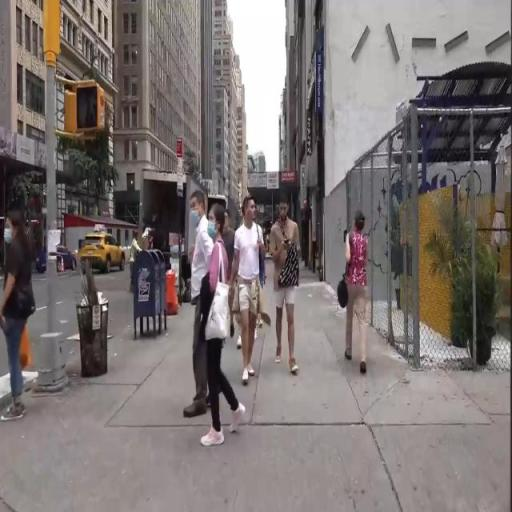person: (2, 198, 44, 427), (270, 196, 307, 400), (208, 206, 237, 459), (234, 192, 268, 405), (338, 210, 375, 403), (187, 188, 208, 401), (129, 231, 141, 289)
